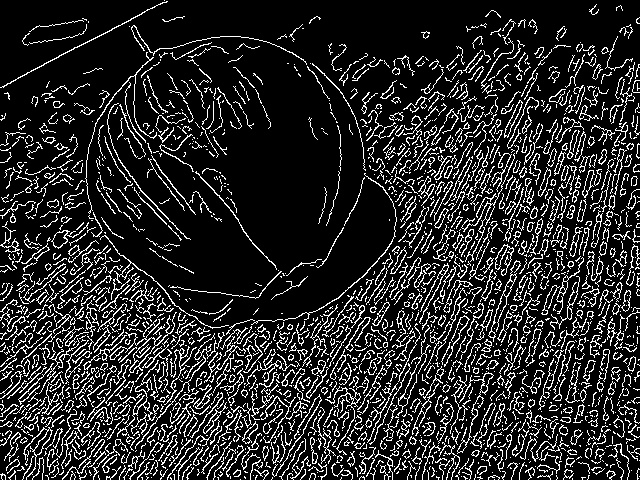onion: (70, 13, 373, 328)
